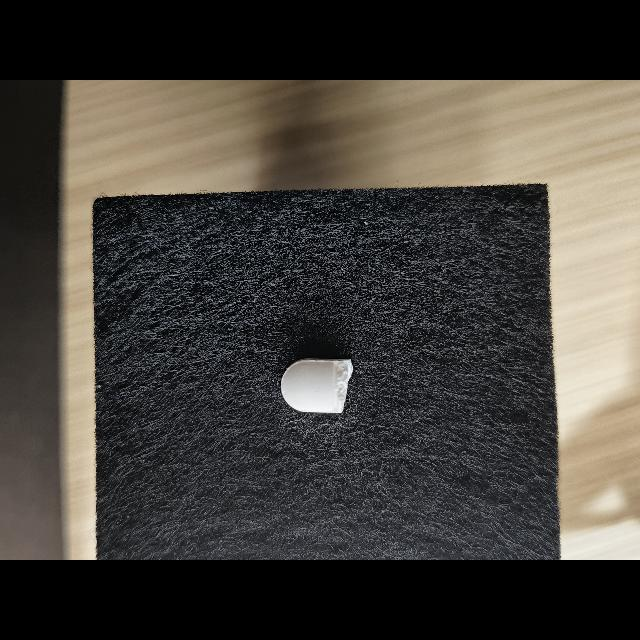Chipped Pill: (281, 358, 353, 413)
